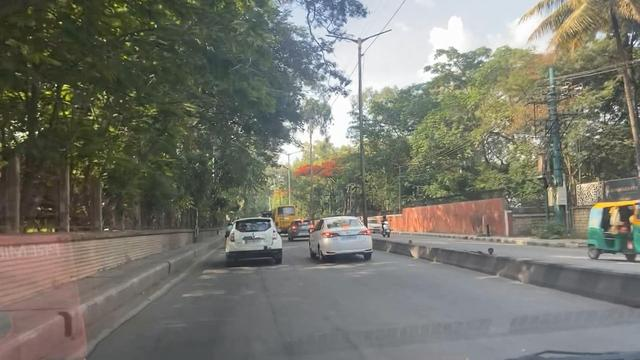LMV: (312, 217, 374, 261), (229, 220, 283, 260), (290, 221, 312, 237)
